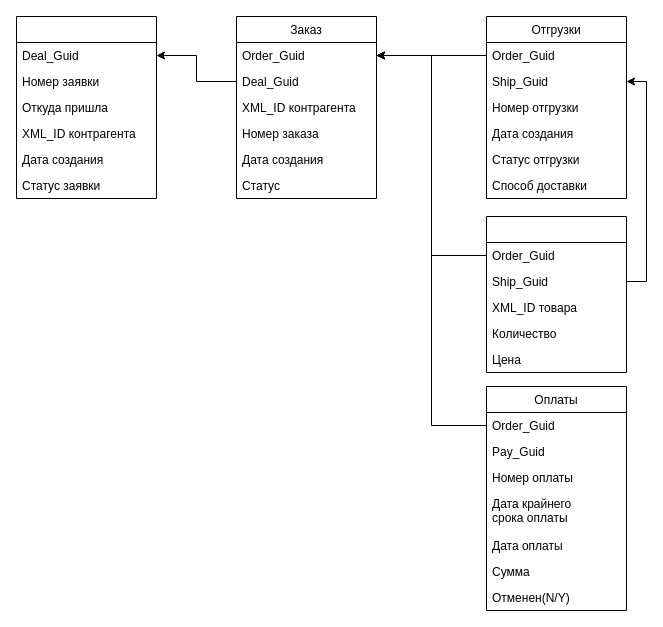
Some shapes in this 663 by 627 pixel diagram are drawn without their labels. Here are the shapes that lost their labels. From the top down, the box of each, then its label:
(16, 16, 156, 198): Заявка
(486, 216, 626, 372): Товары
